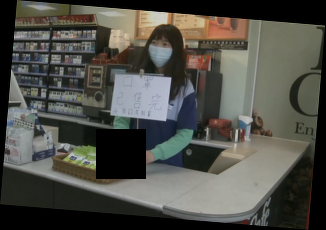with_mask: (146, 37, 173, 67)
